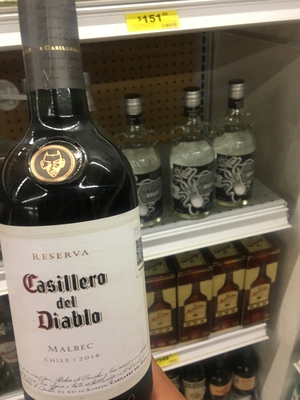casillero del diablo malbec: (2, 17, 161, 400)
